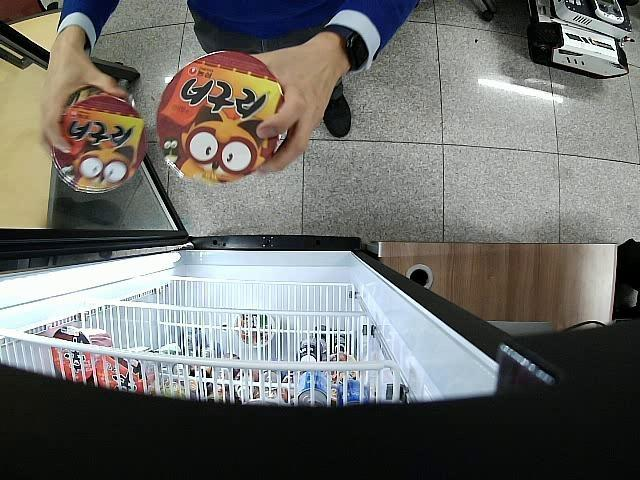05_nuguri_L: (158, 52, 291, 184), (51, 85, 151, 194)
